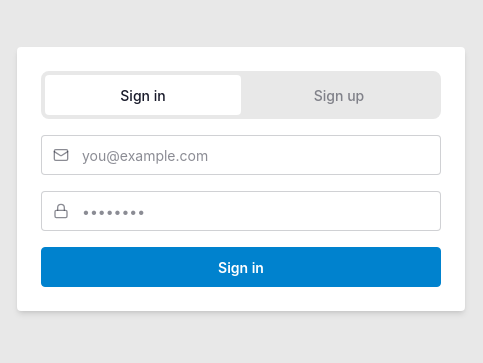
Scenario: AuthPage — sign in tab › surfaces Supabase errors
Type "jane@test.dev" into the field named "email" at (241, 155), box [41,135,441,175]
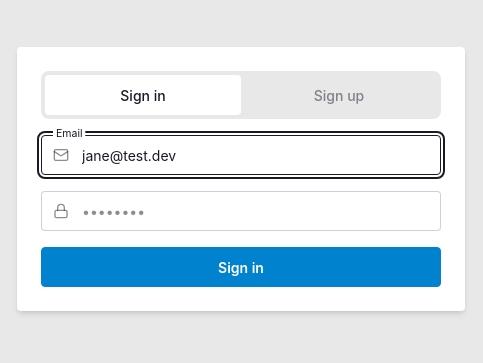
Type "wrongpass" into the password field named "password" at (241, 211), box [41,191,441,231]
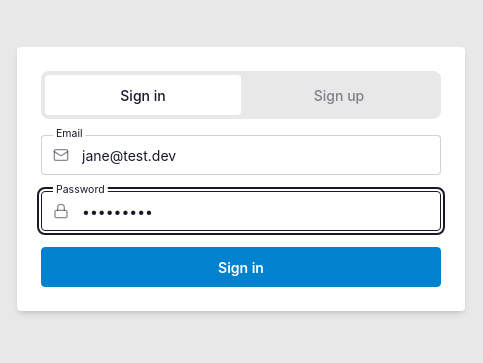
Click the button "Sign in" at (241, 267), box [41,247,441,287]
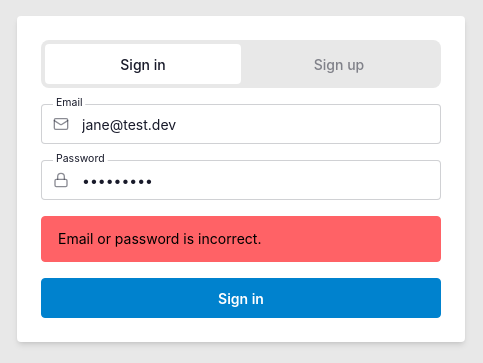
Now the text "Email or password is incorrect." is shown, box [41,216,441,262]
